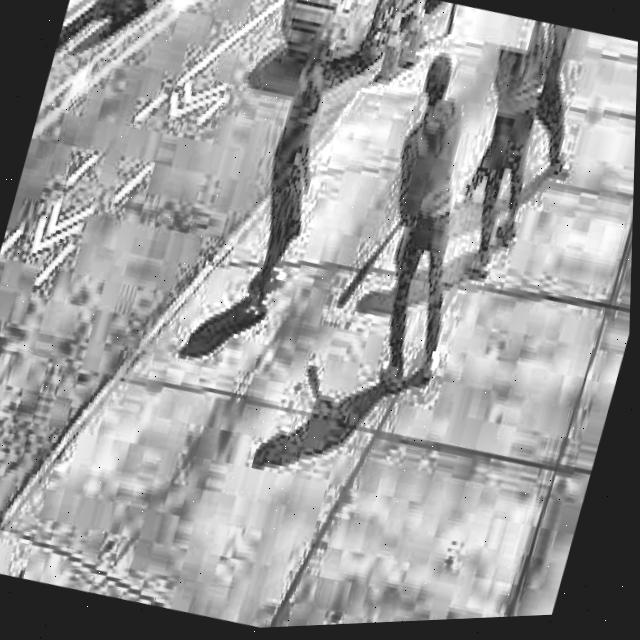tongkat pemukul: (329, 203, 413, 317)
